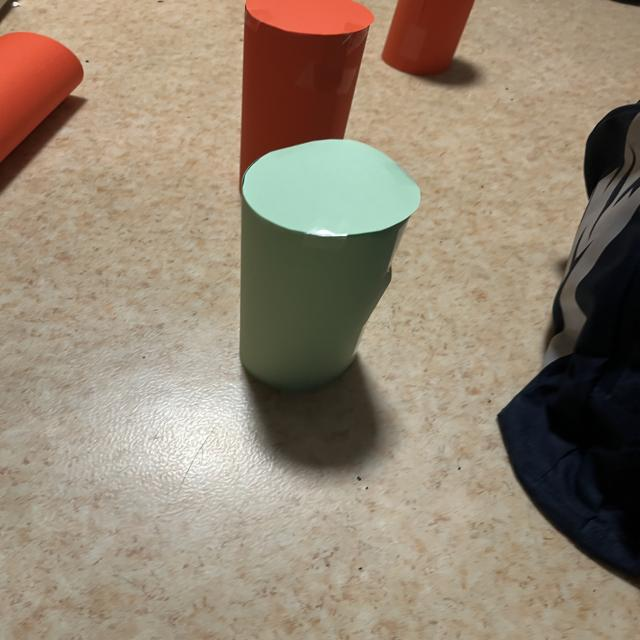meta: (240, 139, 420, 389)
przeszkoda: (240, 0, 374, 179), (0, 32, 83, 160), (382, 0, 474, 75)
